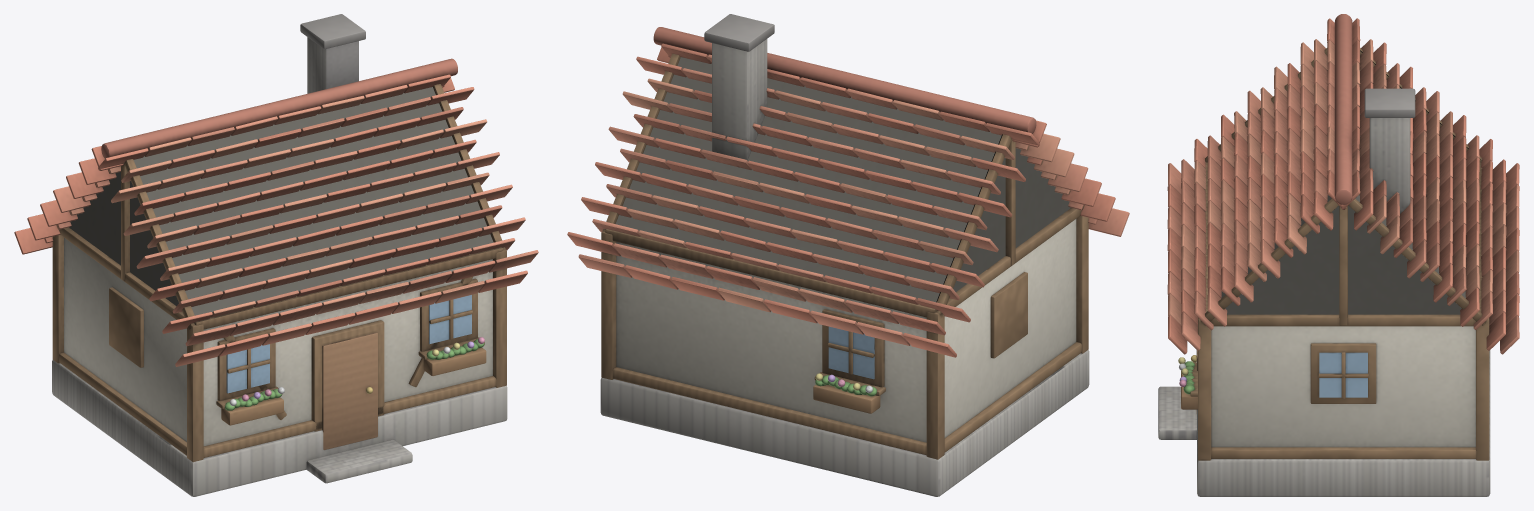
Rendered from cottage.glb.
The picture shows the model from 3 angles, left to right: view 1: azimuth 30°, elevation 25°; view 2: azimuth 150°, elevation 25°; view 3: azimuth 270°, elevation 25°; orthographic projection. The views are drawn at different scales.
Parts seen in each view (by area): view 1: cottage; view 2: cottage; view 3: cottage.
Part boxes in pixels (x1,y1,x2,y2): cottage: (14,14,538,496); cottage: (567,14,1129,496); cottage: (1158,14,1519,496).
Size of the model in its own units: 5.12 by 4.69 by 4.29.
1 material, 1 textured.
